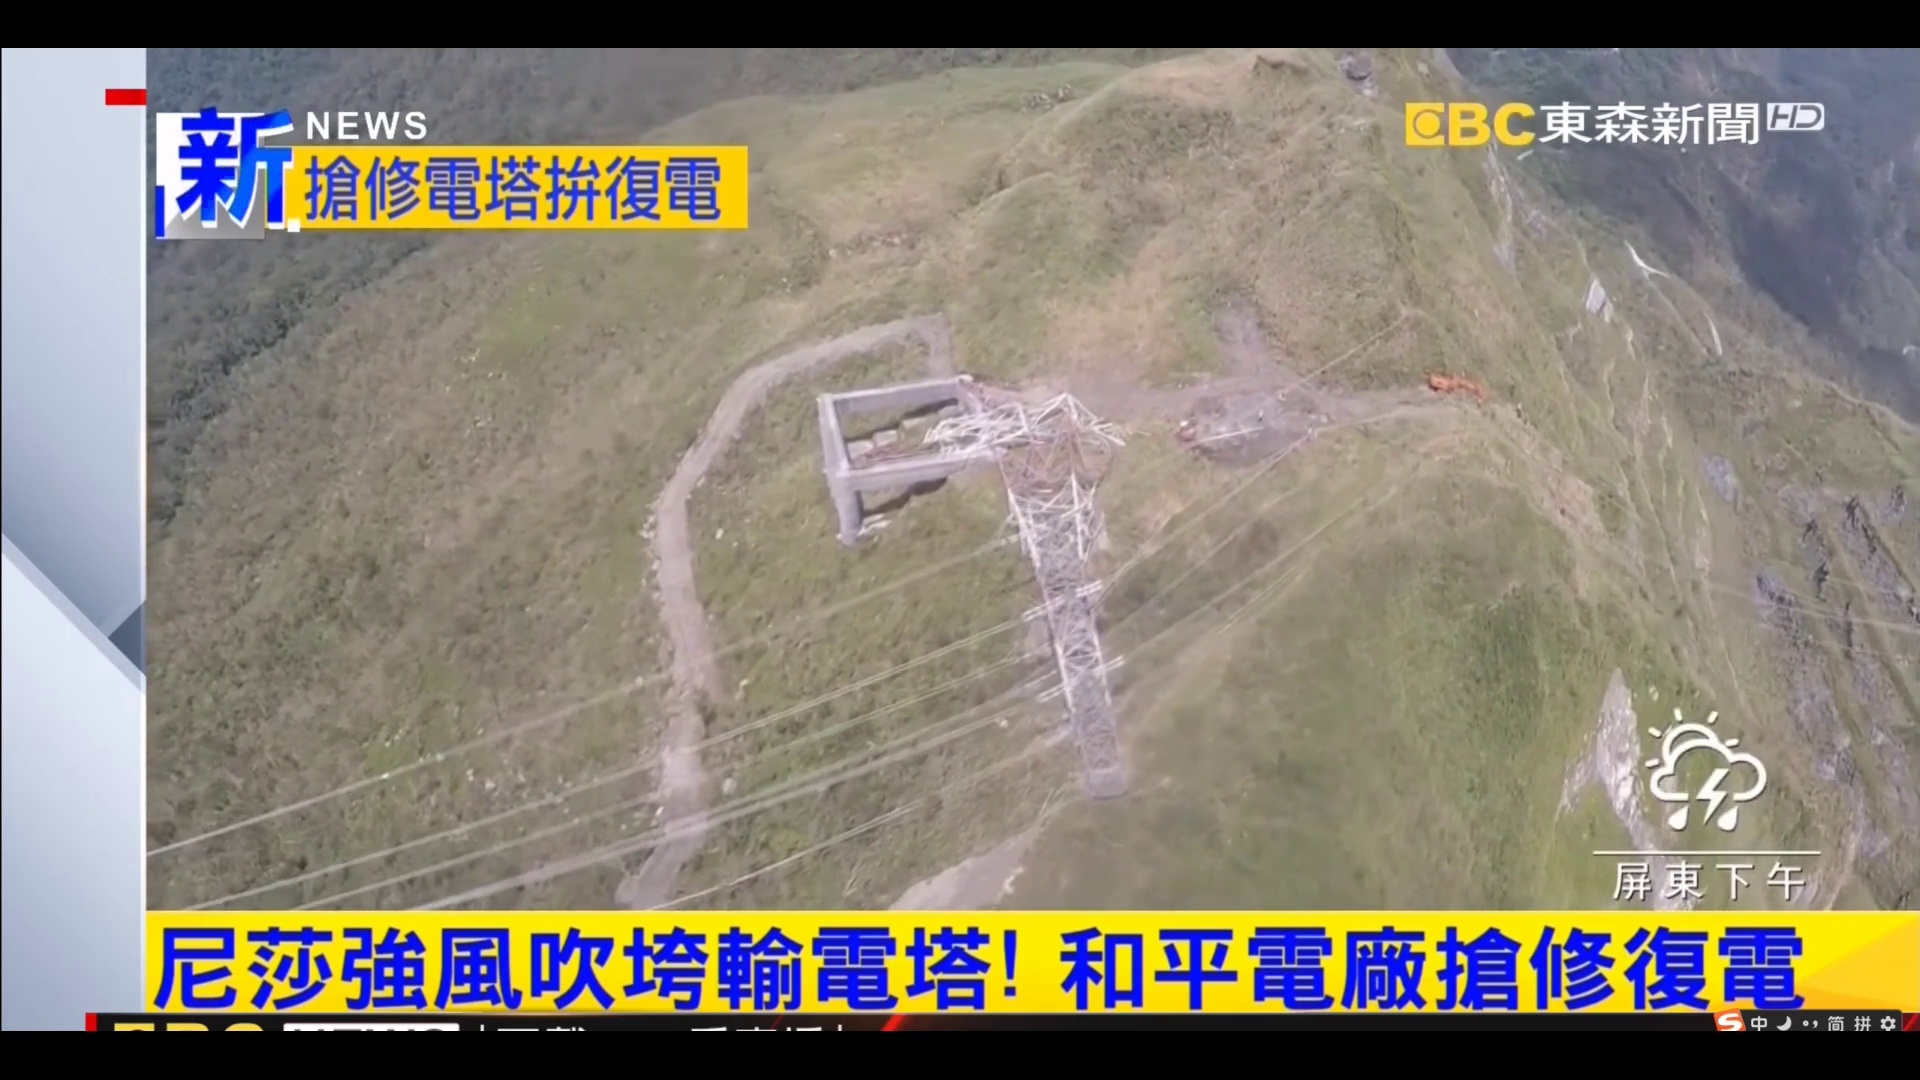tower_down: (976, 367, 1159, 778)
